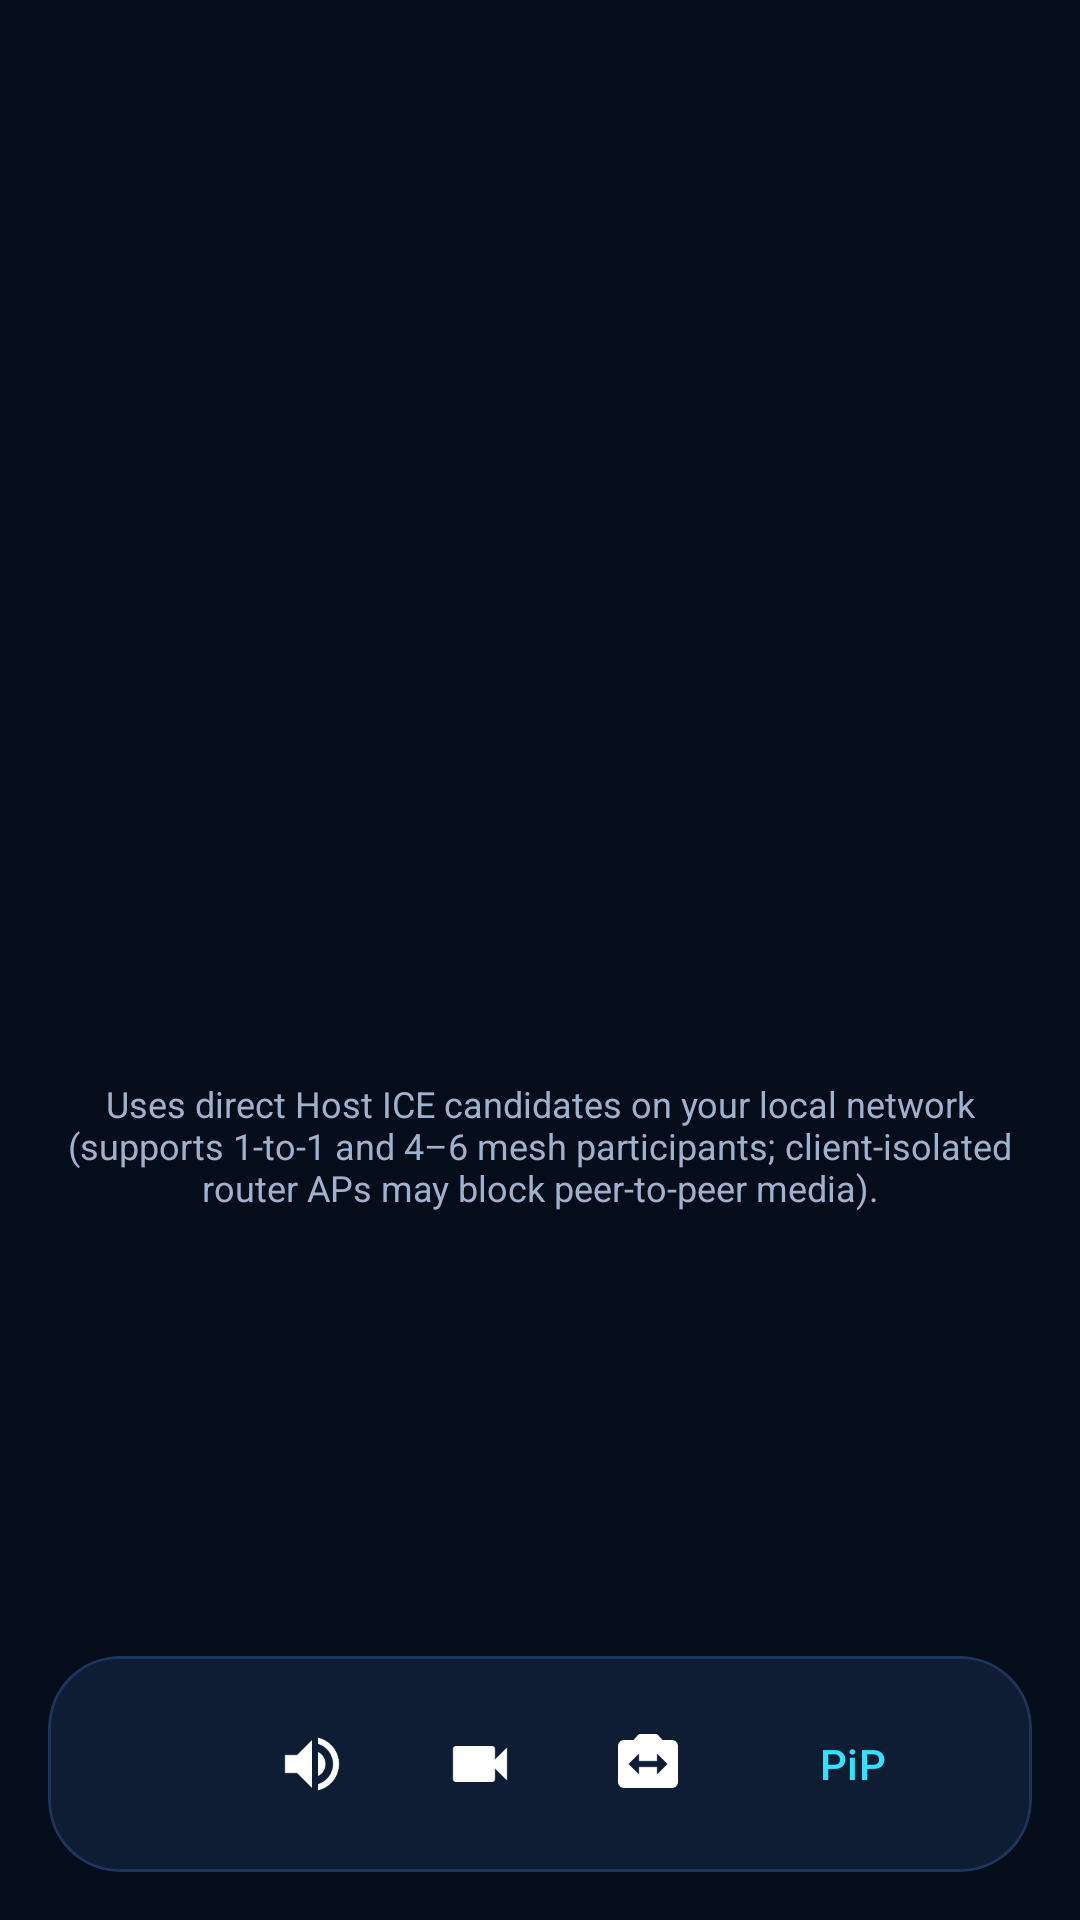

Where to tap for icons on this 1080px×1920px app screen, as [x,y]:
Camera: [480,1764]
Flip: [648,1761]
Speaker: [312,1764]
